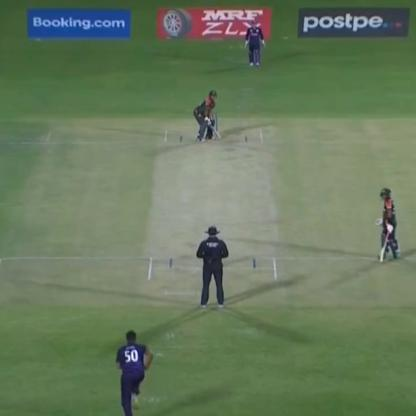bat: (196, 113, 226, 139), (378, 224, 395, 266)
pitch: (140, 128, 277, 296)
